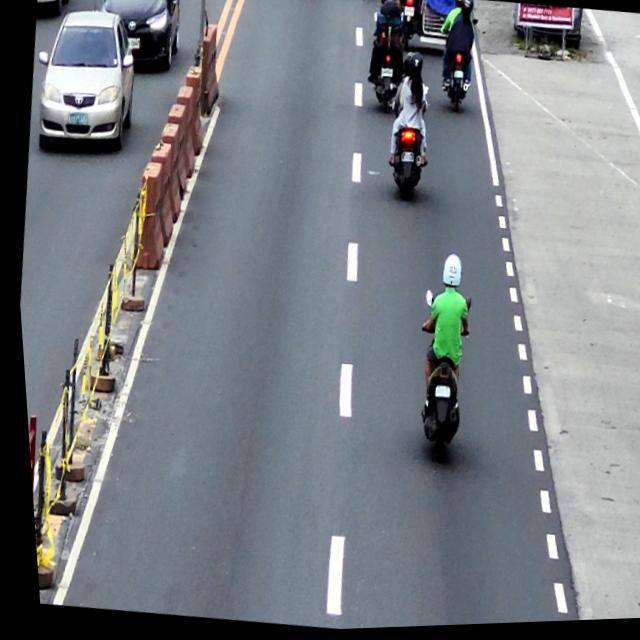Car: (22, 4, 145, 160), (87, 0, 188, 77)
License-Plate: (64, 111, 87, 126), (426, 387, 445, 402), (124, 38, 140, 52), (397, 154, 413, 165), (378, 70, 393, 81), (450, 72, 463, 83)
Motorcycle: (402, 290, 477, 465), (377, 83, 434, 206), (430, 16, 482, 119), (362, 11, 412, 118)
